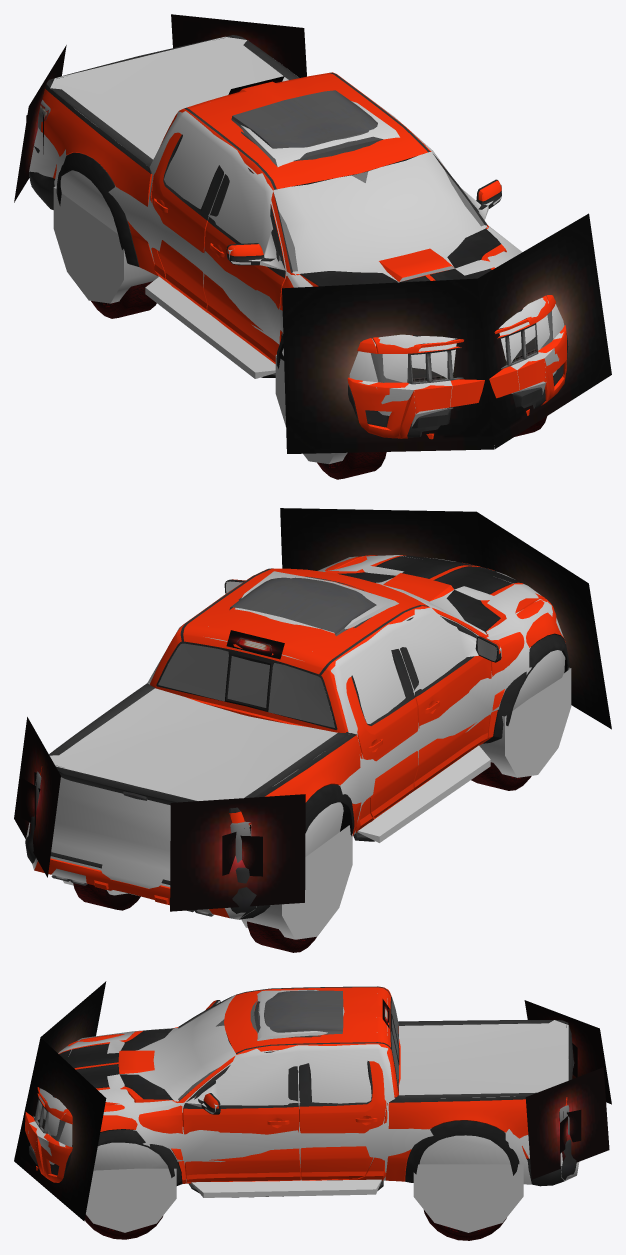
The model's file is P_car-021_Traptor.fbx.
3 renders of one model, top to bottom at view 1: azimuth 30°, elevation 25°; view 2: azimuth 150°, elevation 25°; view 3: azimuth 270°, elevation 25°, orthographic. The views are drawn at different scales.
Visible parts, largest first — view 1: M_Car-021_ShadowForm_Traptor_01, M_Car-021_FrontFlares_Traptor_01, M_Car-021_Body_Traptor_01, M_Car-021_Details_Traptor_01, M_Car-Interior_Details_01, M_Car-021_BackFlaresBrake_Traptor_01, M_CarWheel-001_AP (1) (×2), M_Car-Interior_Shadowform_01, M_Car-021_Glass_Traptor_01; view 2: M_Car-021_ShadowForm_Traptor_01, M_Car-021_Body_Traptor_01, M_Car-021_FrontFlares_Traptor_01, M_Car-021_BackFlaresBrake_Traptor_01, M_Car-021_Details_Traptor_01, M_Car-021_Glass_Traptor_01, M_Car-Interior_Details_01, M_Car-021_BackFlares_Traptor_01, M_CarWheel-001_AP_01 (1) (×2), M_Car-Interior_Shadowform_01, M_CarWheel-001_AP (1); view 3: M_Car-021_ShadowForm_Traptor_01, M_Car-021_Body_Traptor_01, M_Car-021_Details_Traptor_01, M_Car-021_FrontFlares_Traptor_01, M_Car-021_BackFlaresBrake_Traptor_01, M_Car-Interior_Details_01, M_Car-021_Glass_Traptor_01, M_Car-Interior_Shadowform_01, M_Car-021_BackFlares_Traptor_01, M_CarWheel-001_AP_01 (1).
Boxes of the visible parts, x1=… form: M_Car-021_ShadowForm_Traptor_01: x1=29, y1=36, x2=564, y2=463; M_Car-021_FrontFlares_Traptor_01: x1=282, y1=213, x2=611, y2=453; M_Car-021_Body_Traptor_01: x1=41, y1=72, x2=567, y2=439; M_Car-021_Details_Traptor_01: x1=29, y1=35, x2=568, y2=437; M_Car-Interior_Details_01: x1=231, y1=90, x2=381, y2=158; M_Car-021_BackFlaresBrake_Traptor_01: x1=14, y1=14, x2=306, y2=202; M_CarWheel-001_AP (1) (×2): x1=99, y1=281, x2=386, y2=479; M_Car-Interior_Shadowform_01: x1=240, y1=101, x2=399, y2=166; M_Car-021_Glass_Traptor_01: x1=37, y1=100, x2=553, y2=382; M_Car-021_ShadowForm_Traptor_01: x1=26, y1=555, x2=571, y2=939; M_Car-021_Body_Traptor_01: x1=34, y1=555, x2=565, y2=918; M_Car-021_FrontFlares_Traptor_01: x1=280, y1=508, x2=611, y2=729; M_Car-021_BackFlaresBrake_Traptor_01: x1=14, y1=630, x2=305, y2=911; M_Car-021_Details_Traptor_01: x1=25, y1=555, x2=569, y2=919; M_Car-021_Glass_Traptor_01: x1=35, y1=643, x2=334, y2=862; M_Car-Interior_Details_01: x1=229, y1=576, x2=376, y2=636; M_Car-021_BackFlares_Traptor_01: x1=21, y1=772, x2=262, y2=876; M_CarWheel-001_AP_01 (1) (×2): x1=247, y1=762, x2=527, y2=952; M_Car-Interior_Shadowform_01: x1=235, y1=571, x2=398, y2=633; M_CarWheel-001_AP (1): x1=73, y1=883, x2=130, y2=910; M_Car-021_ShadowForm_Traptor_01: x1=28, y1=993, x2=579, y2=1232; M_Car-021_Body_Traptor_01: x1=25, y1=986, x2=567, y2=1183; M_Car-021_Details_Traptor_01: x1=29, y1=986, x2=576, y2=1197; M_Car-021_FrontFlares_Traptor_01: x1=14, y1=981, x2=106, y2=1221; M_Car-021_BackFlaresBrake_Traptor_01: x1=382, y1=999, x2=611, y2=1179; M_Car-Interior_Details_01: x1=253, y1=990, x2=343, y2=1036; M_Car-021_Glass_Traptor_01: x1=50, y1=998, x2=569, y2=1141; M_Car-Interior_Shadowform_01: x1=257, y1=990, x2=344, y2=1040; M_Car-021_BackFlares_Traptor_01: x1=559, y1=1043, x2=581, y2=1153; M_CarWheel-001_AP_01 (1): x1=424, y1=1210, x2=469, y2=1240.
Size of the model in its own units: 2.99 by 2.19 by 6.1.
